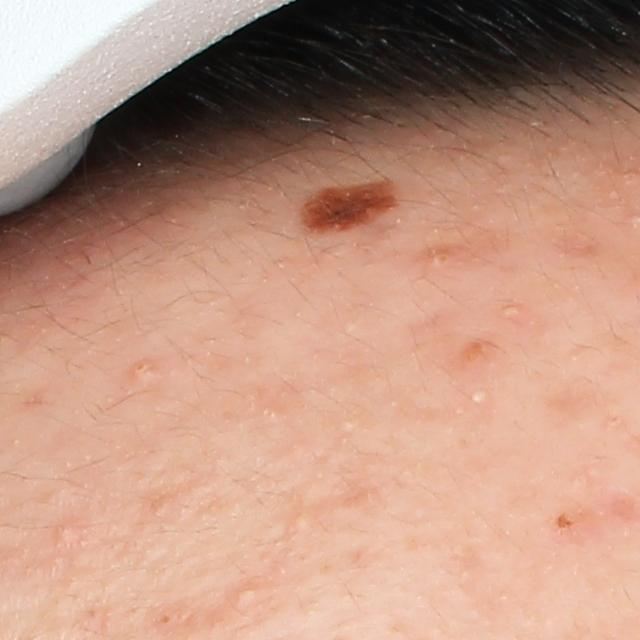comedo: (232, 580, 263, 607), (293, 511, 313, 537)
nevus: (297, 173, 398, 235)
papule: (131, 355, 161, 389)
